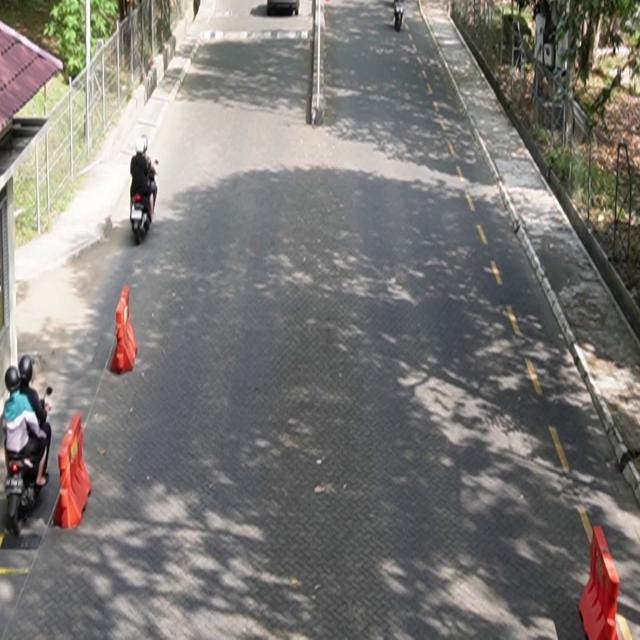car: (268, 1, 301, 17)
